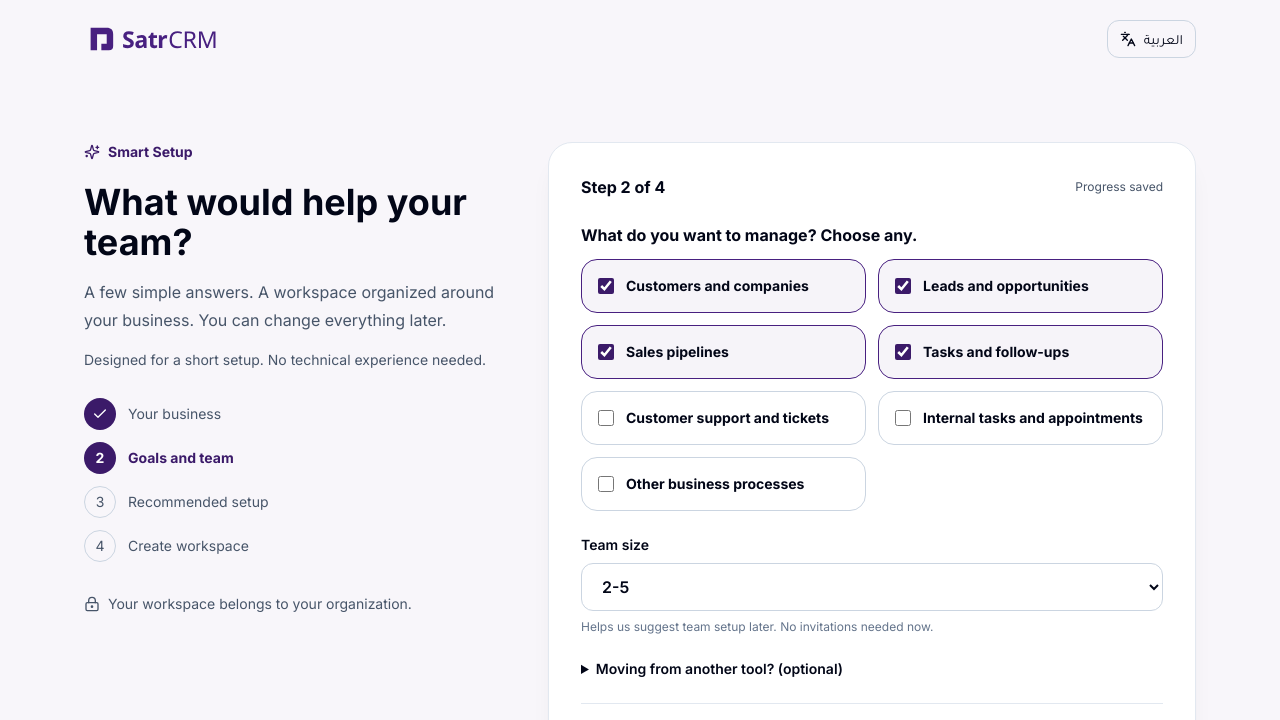
Test case: Smart Setup bilingual and resumable UI › selects multiple goals, preserves them on back, and advances through four stages
The width and height of the screenshot is (1280, 720).
Click the checkbox labelled "Customer support and tickets": {"x": 606, "y": 418} x1=598 y1=410 x2=614 y2=426
(page scrolled)
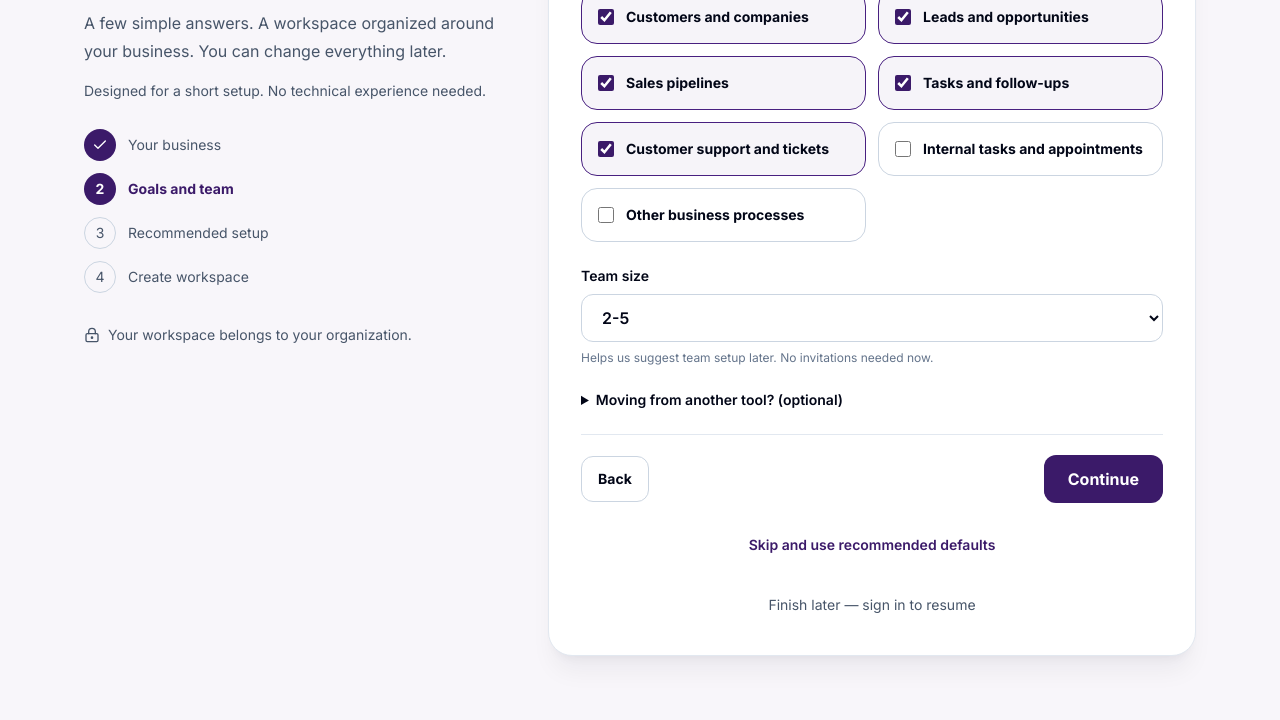
Click the button "Continue": {"x": 1103, "y": 479} x1=1044 y1=455 x2=1163 y2=503
(page scrolled)
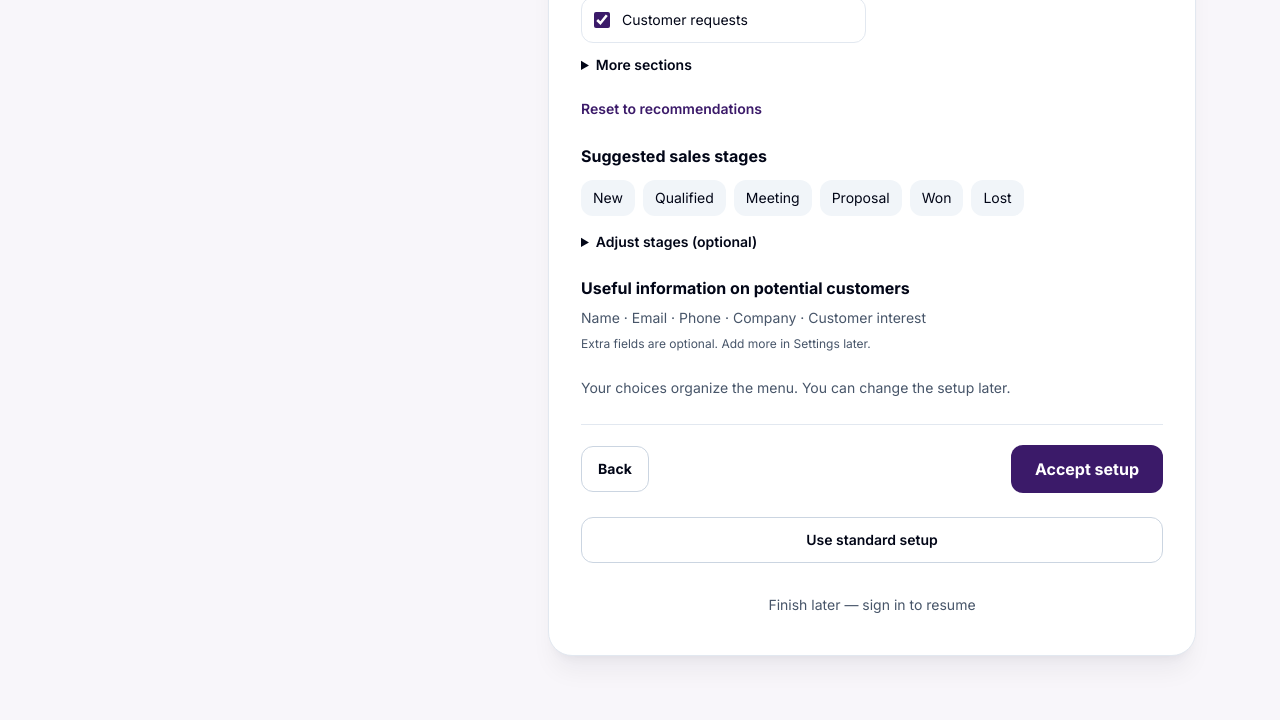
Expected: the button "Accept setup" is shown, x1=1011 y1=445 x2=1163 y2=493
Click the button "Back": {"x": 615, "y": 469} x1=581 y1=446 x2=649 y2=492
(page scrolled)
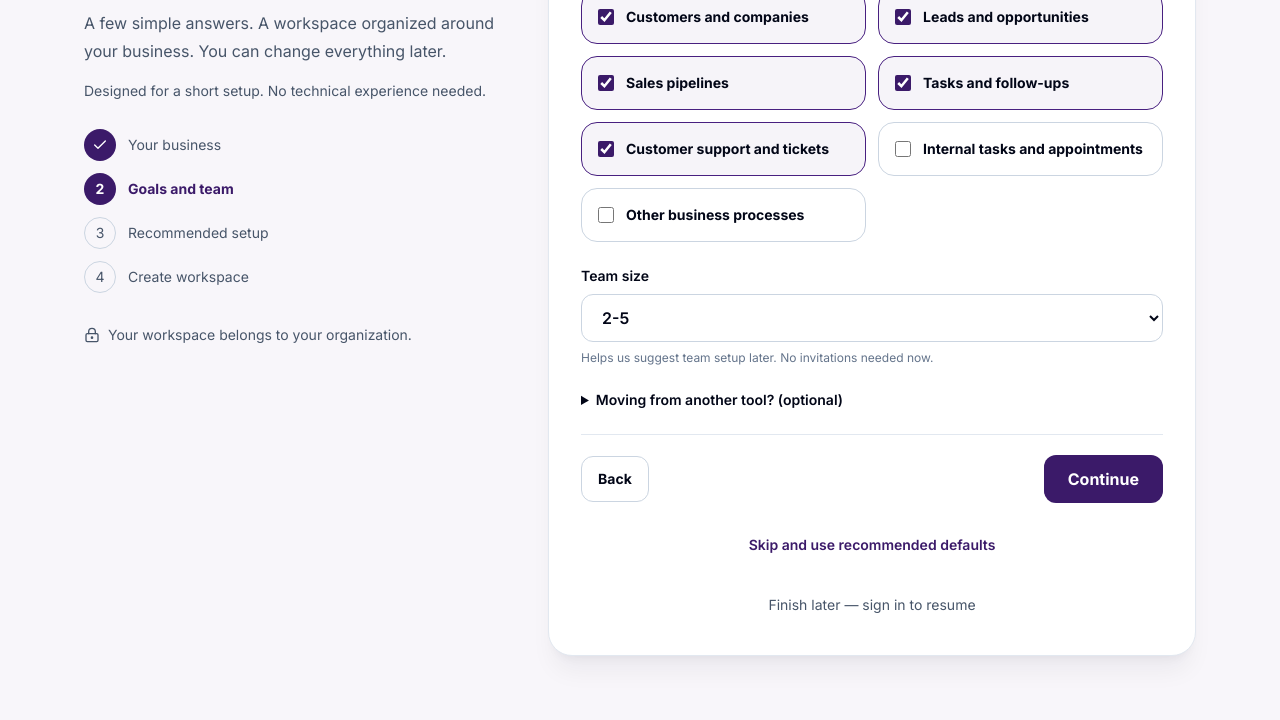
Expected: the checkbox labelled "Customer support and tickets" is checked, x1=598 y1=141 x2=614 y2=157
